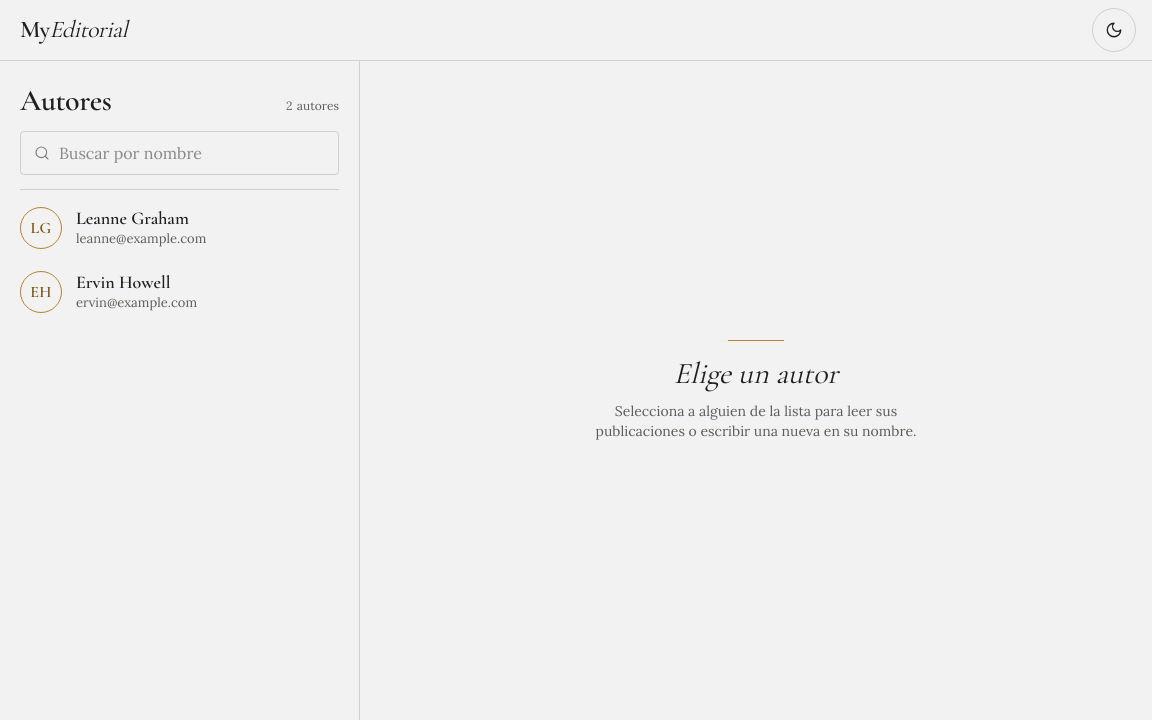
it: App › R3: "Nueva publicación" opens the form and Escape closes it
Click the button "LG Leanne Graham leanne@example.com" at [180, 228], box [8,196,351,260]
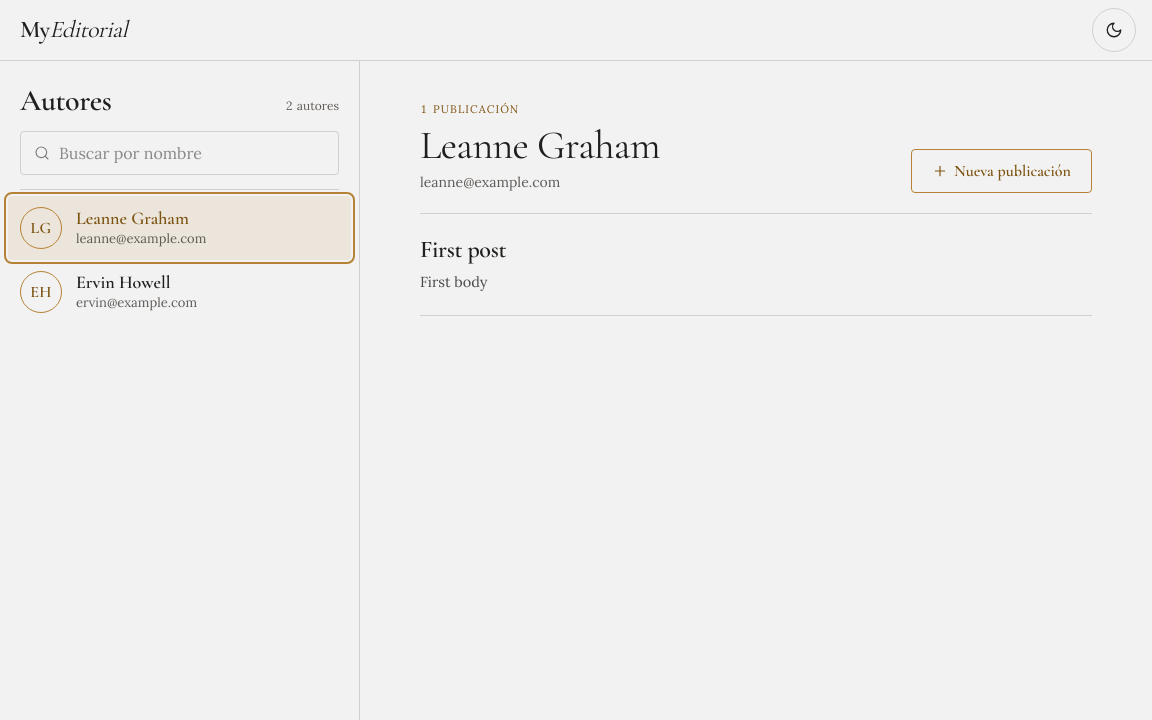
Click the button "Nueva publicación" at [1001, 171], box [911,149,1092,193]
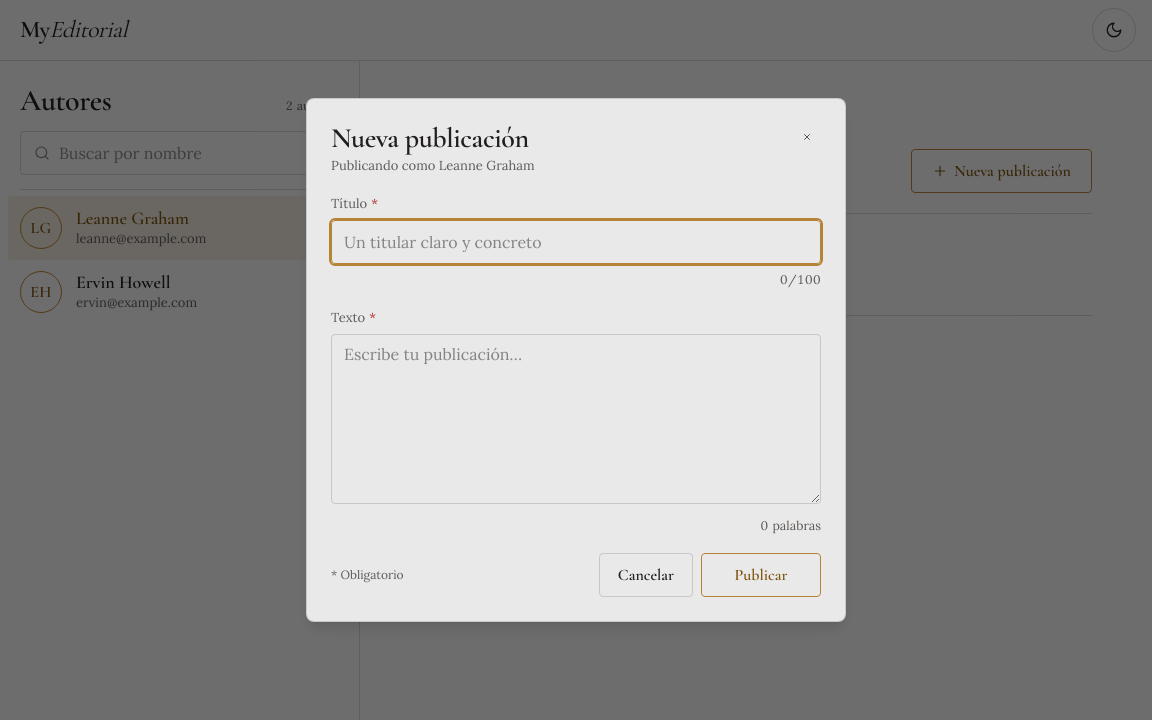
Expected: the dialog "Nueva publicación" is shown, [306,98,846,622]
Press Escape
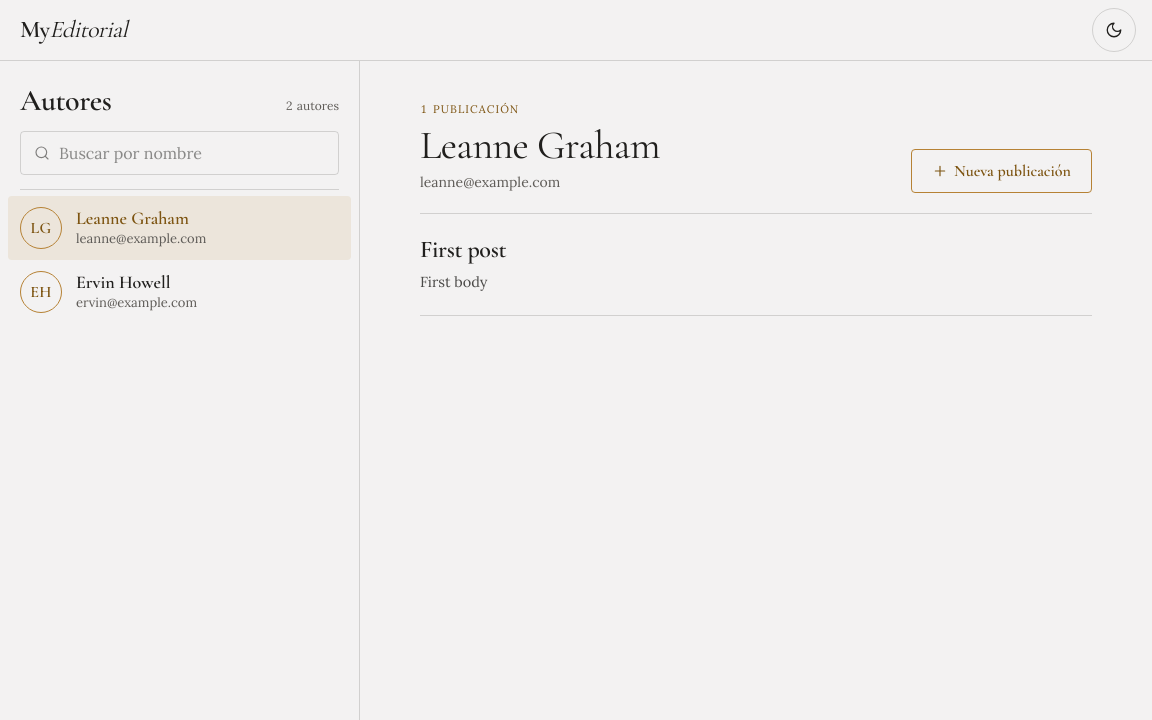
Expected: the dialog is gone
